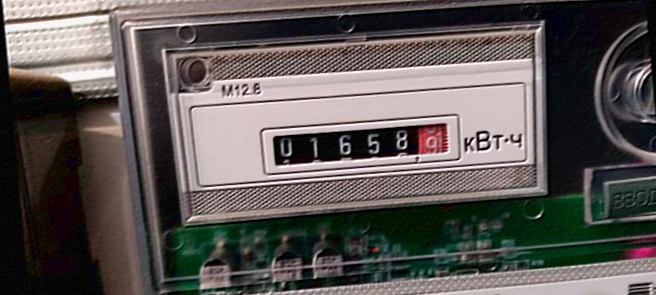0: (278, 136, 293, 159)
1: (308, 136, 320, 159)
5: (365, 132, 381, 156)
6: (336, 133, 352, 156)
8: (392, 128, 408, 151)
9: (421, 134, 437, 157)
screen: (252, 105, 469, 184)
